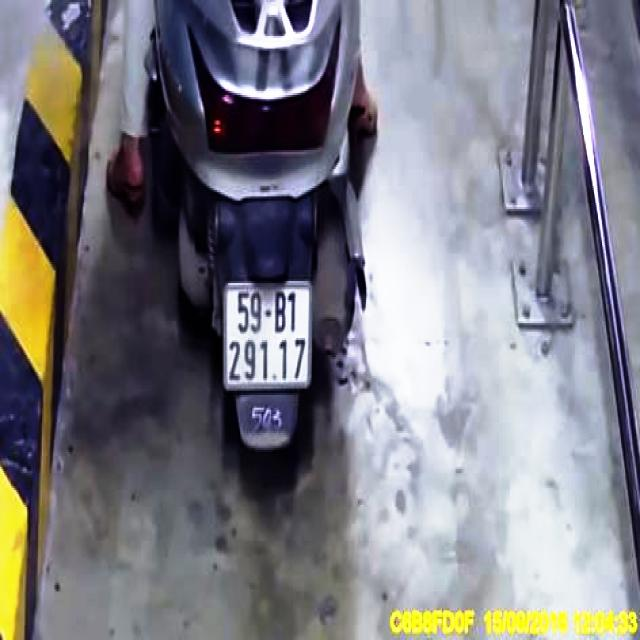license_plate: (224, 286, 311, 386)
